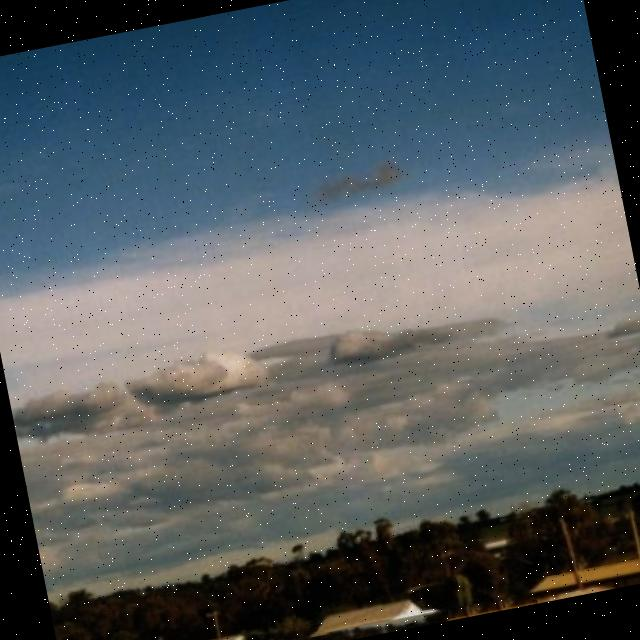Cs: (1, 22, 640, 553)
